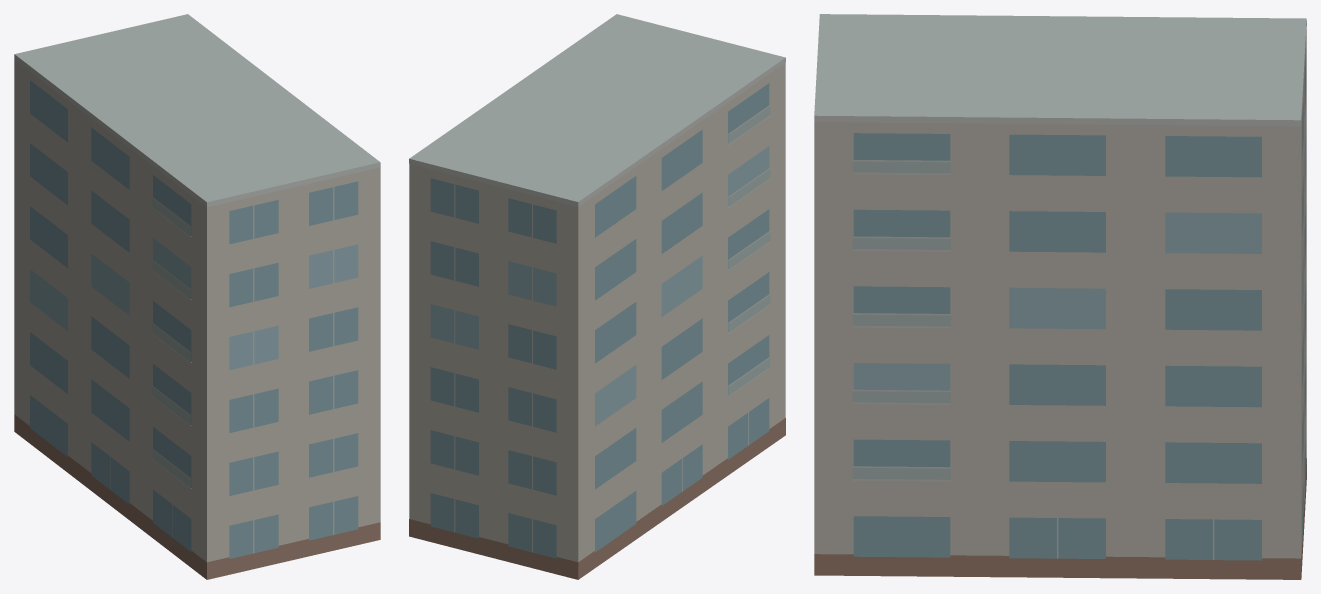
The model's file is survey-upis-32619891.glb.
3 renders of one model, left to right at view 1: azimuth 30°, elevation 25°; view 2: azimuth 150°, elevation 25°; view 3: azimuth 270°, elevation 25°, orthographic. The views are drawn at different scales.
Parts seen in each view (by area): view 1: survey-upis-32619891.tmp; view 2: survey-upis-32619891.tmp; view 3: survey-upis-32619891.tmp.
Boxes of the visible parts, x1,y1,x2,y2 form: survey-upis-32619891.tmp: (14, 14, 380, 579); survey-upis-32619891.tmp: (409, 14, 785, 579); survey-upis-32619891.tmp: (814, 14, 1306, 579).
Size of the model in its own units: 9.08 by 18.3 by 17.78.
